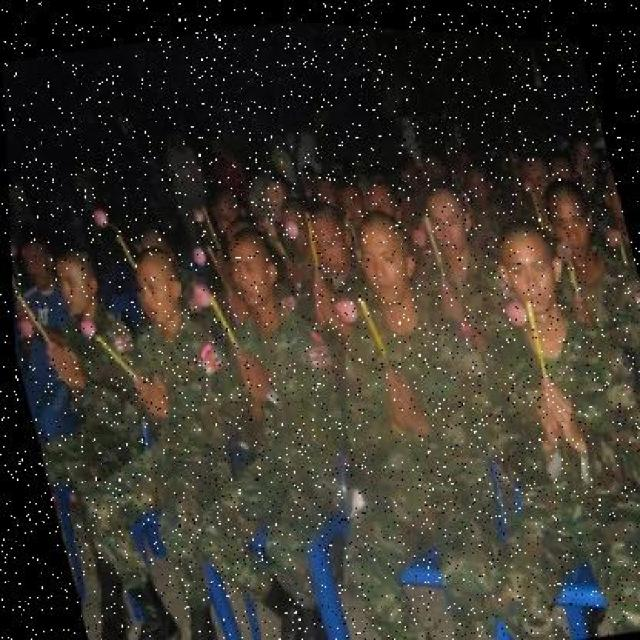MIL_Pax: (320, 215, 518, 640), (190, 223, 372, 637), (471, 224, 640, 636), (102, 241, 274, 640), (13, 243, 175, 574), (514, 158, 640, 479), (404, 171, 533, 460)
